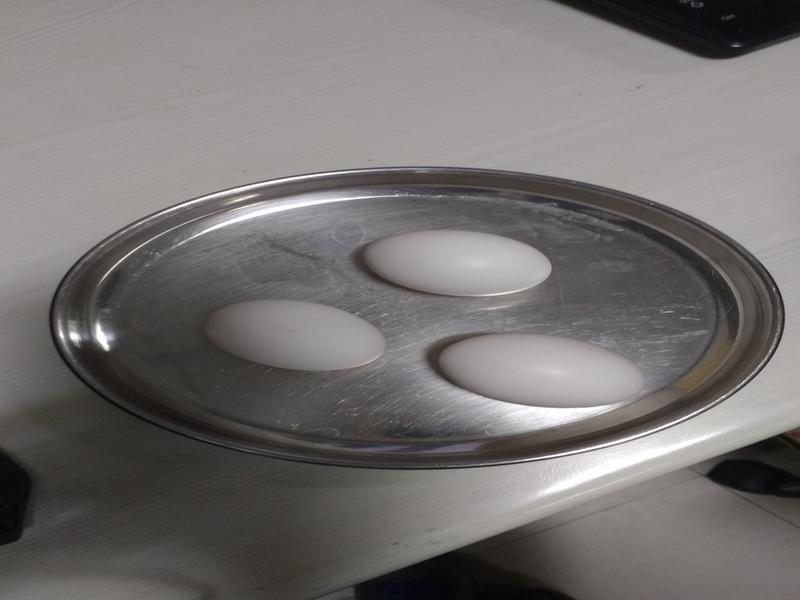egg: (207, 298, 383, 373)
